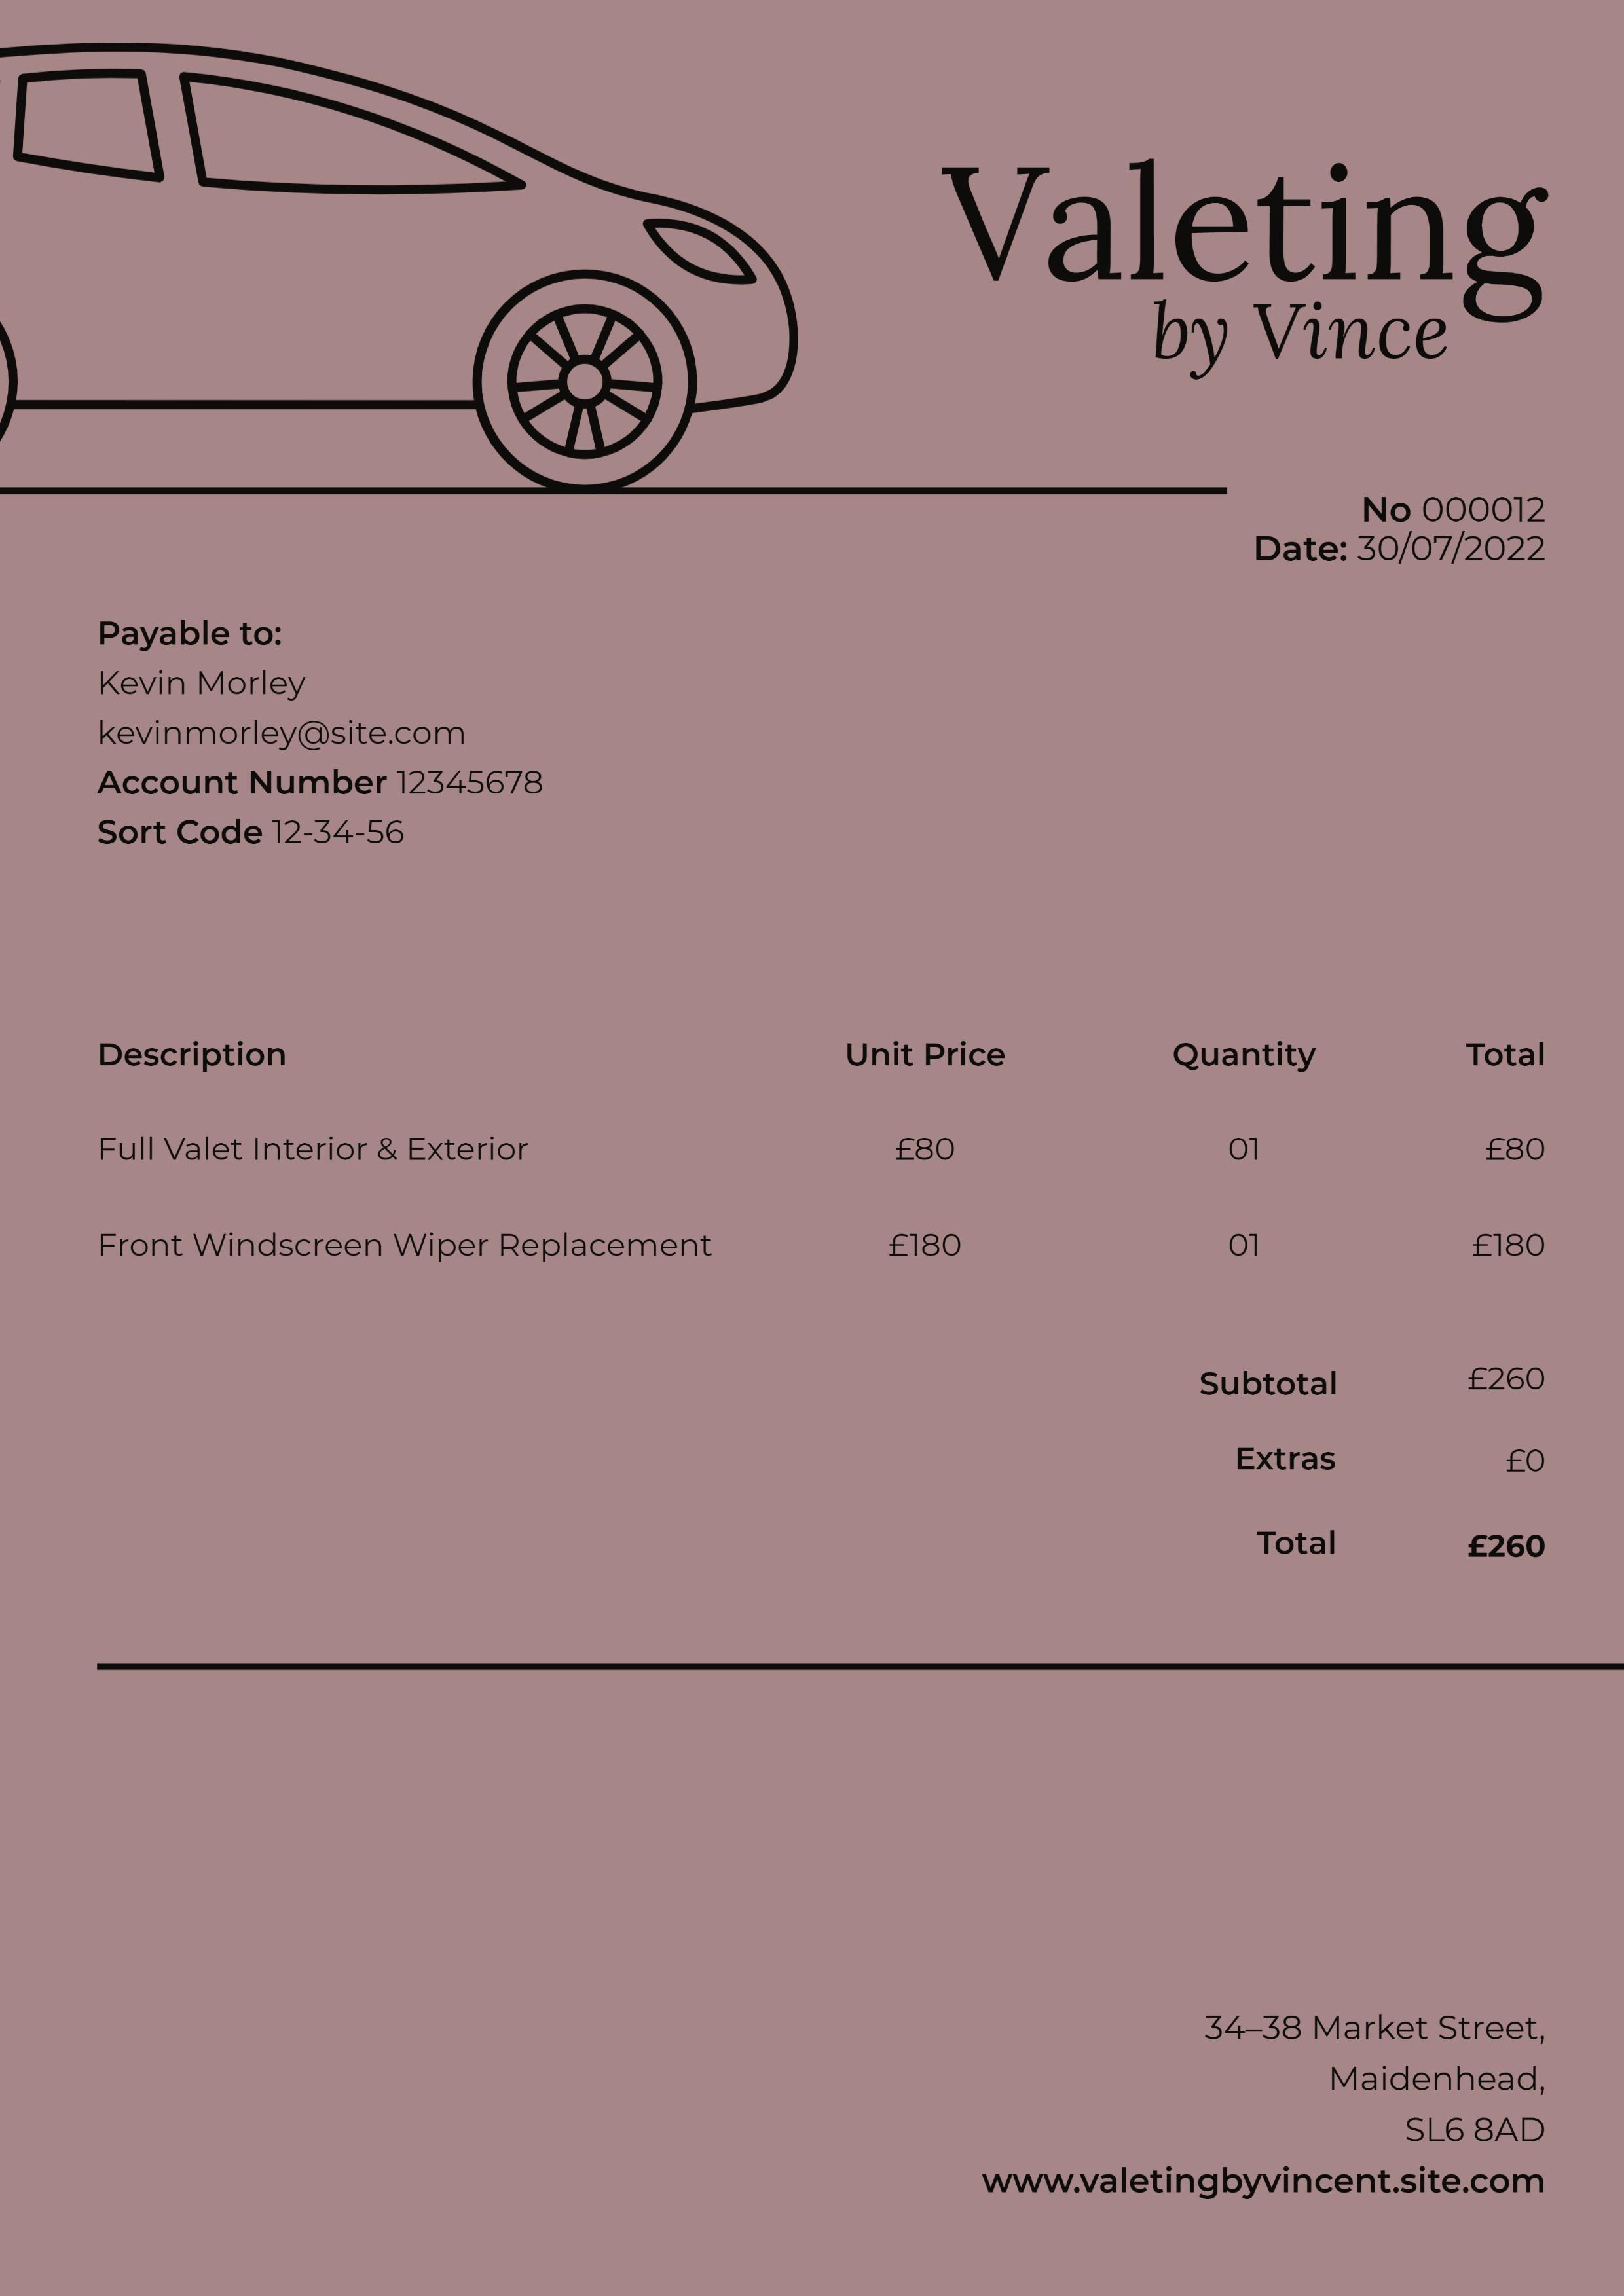ROI: (91, 1031, 1566, 1281), (914, 139, 1591, 393), (76, 583, 589, 864), (1169, 1346, 1571, 1576), (1251, 478, 1566, 576)
